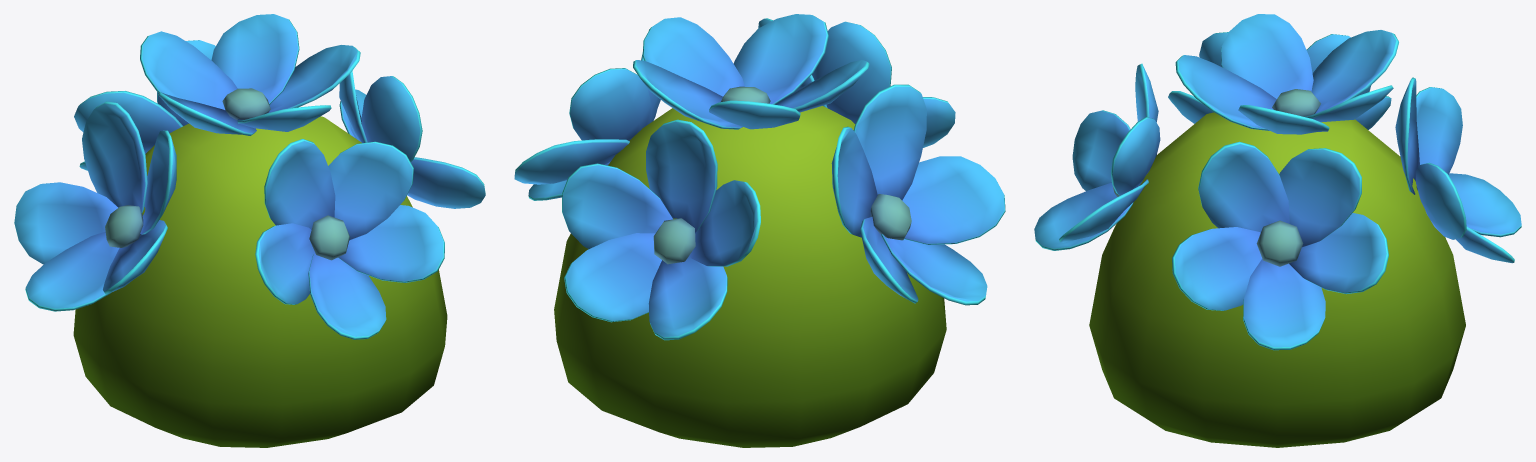
The model's file is mt_prop_p06.fbx.
The picture shows the model from 3 angles, left to right: view 1: azimuth 30°, elevation 25°; view 2: azimuth 150°, elevation 25°; view 3: azimuth 270°, elevation 25°; orthographic projection. The views are drawn at different scales.
Parts seen in each view (by area): view 1: prop_p06; view 2: prop_p06; view 3: prop_p06.
Part boxes in pixels (left/top/right/bottom): prop_p06: left=14, top=14, right=485, bottom=447; prop_p06: left=514, top=14, right=1005, bottom=447; prop_p06: left=1034, top=14, right=1521, bottom=447.
Bounding box in the file's own units: 73.9 × 54.98 × 71.49.
